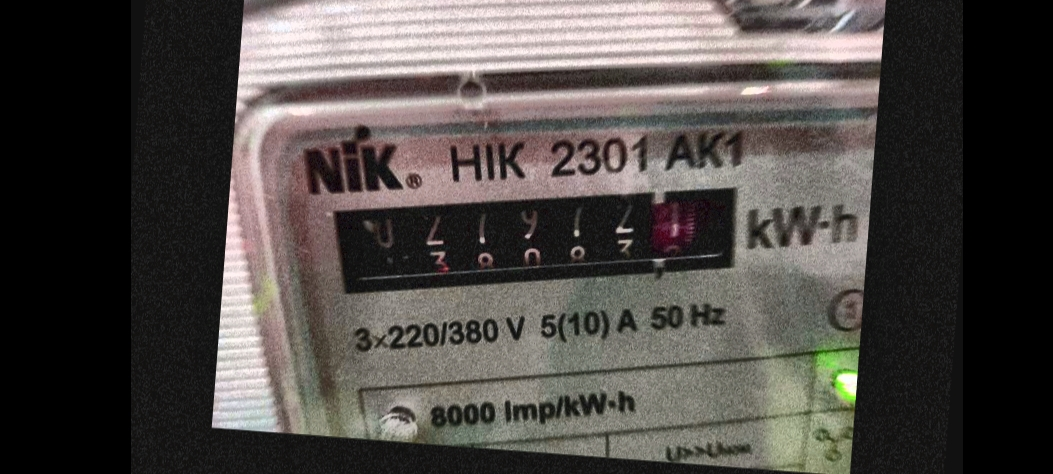0: (367, 210, 398, 248)
1: (662, 195, 687, 240)
2: (416, 205, 448, 246), (608, 195, 639, 234)
7: (560, 197, 589, 239), (467, 206, 492, 244)
9: (514, 202, 543, 239)
screen: (309, 145, 771, 333)
